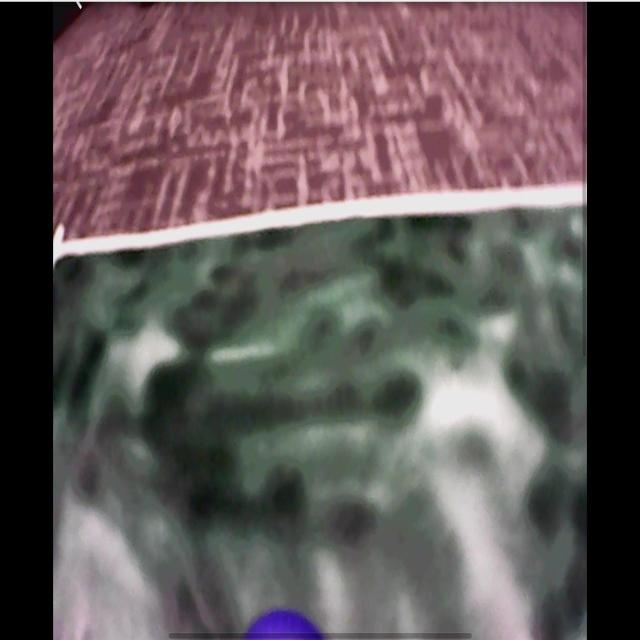ball: (246, 610, 323, 640)
